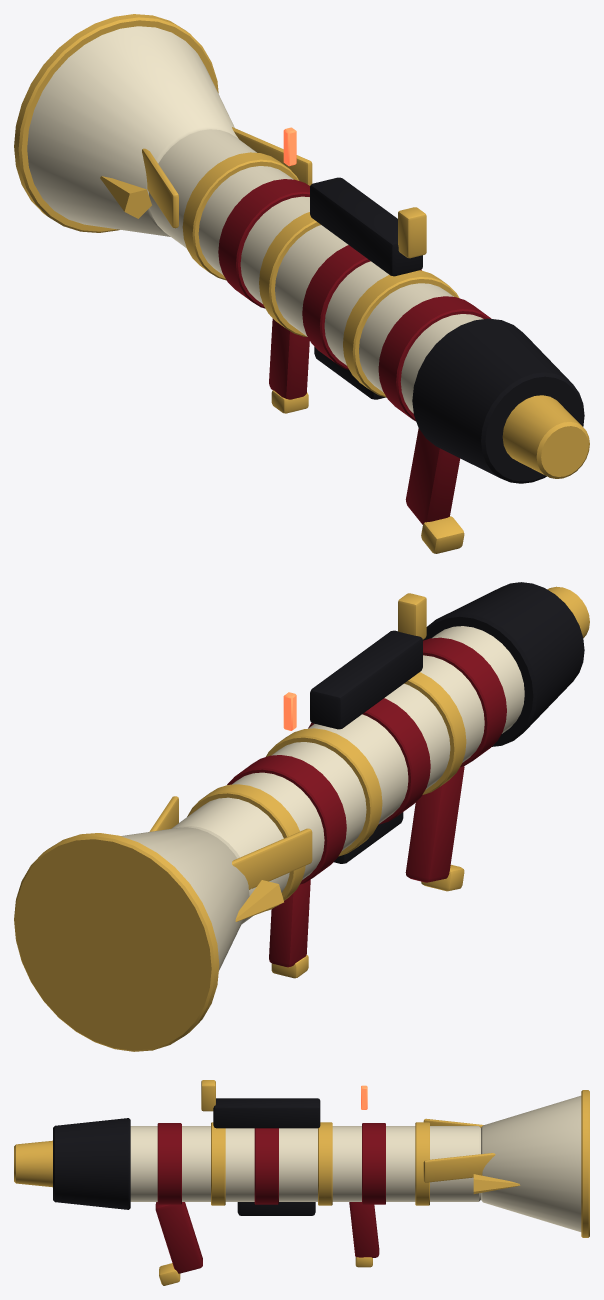
Rendered from gjallarhorn.glb.
The picture shows the model from 3 angles, top to bottom: view 1: azimuth 30°, elevation 25°; view 2: azimuth 150°, elevation 25°; view 3: azimuth 270°, elevation 25°; orthographic projection. The views are drawn at different scales.
Visible parts, largest first — view 1: ivory, gold, dark, crimson; view 2: gold, ivory, dark, crimson; view 3: ivory, dark, gold, crimson.
Part boxes in pixels (x1,y1,x2,y2): ivory: (27,26,483,413); gold: (14,14,589,553); dark: (310,177,584,483); crimson: (218,179,491,524); gold: (14,586,589,1051); ivory: (121,626,524,971); dark: (310,582,584,863); crimson: (227,637,506,967); ivory: (130,1095,581,1231); dark: (53,1098,320,1215); gold: (14,1080,589,1285); crimson: (155,1123,385,1273).
Size of the model in its own units: 0.304 by 0.4533 by 1.18.
